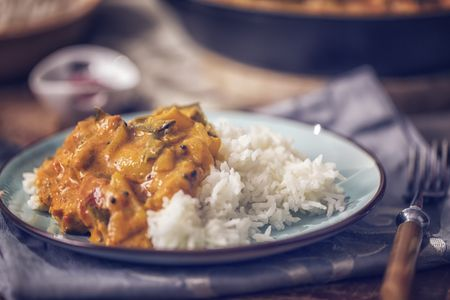plain rice: (238, 128, 329, 207)
